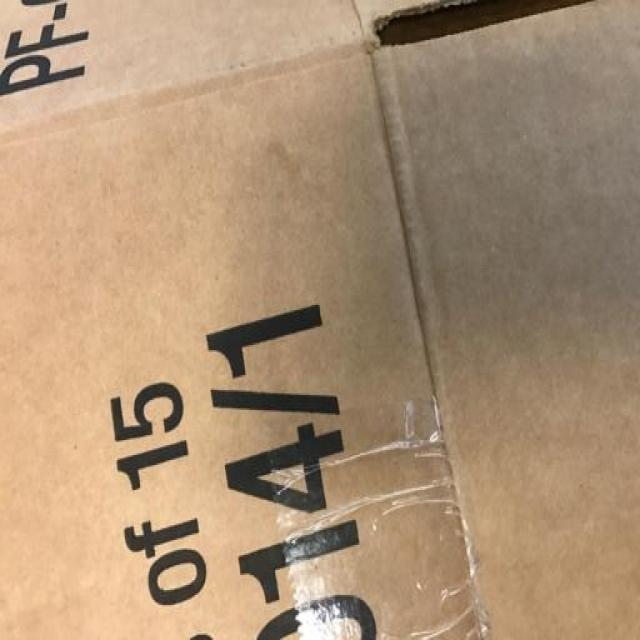cardboard paper: (1, 1, 640, 640)
